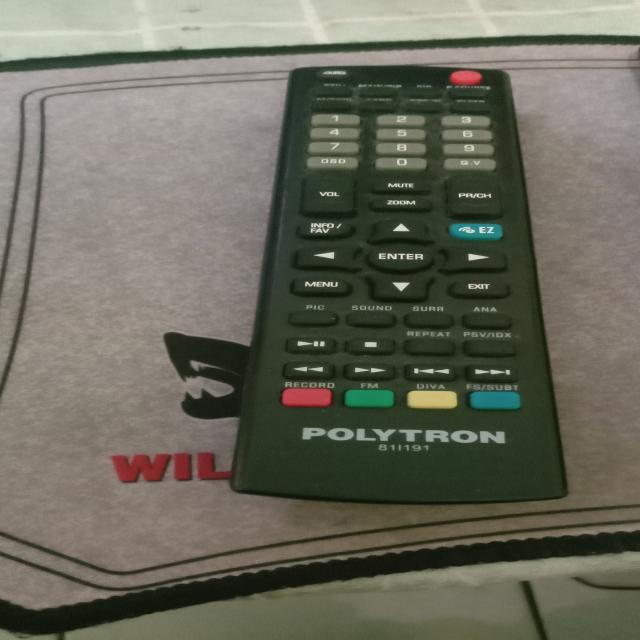remote: (203, 57, 577, 502)
